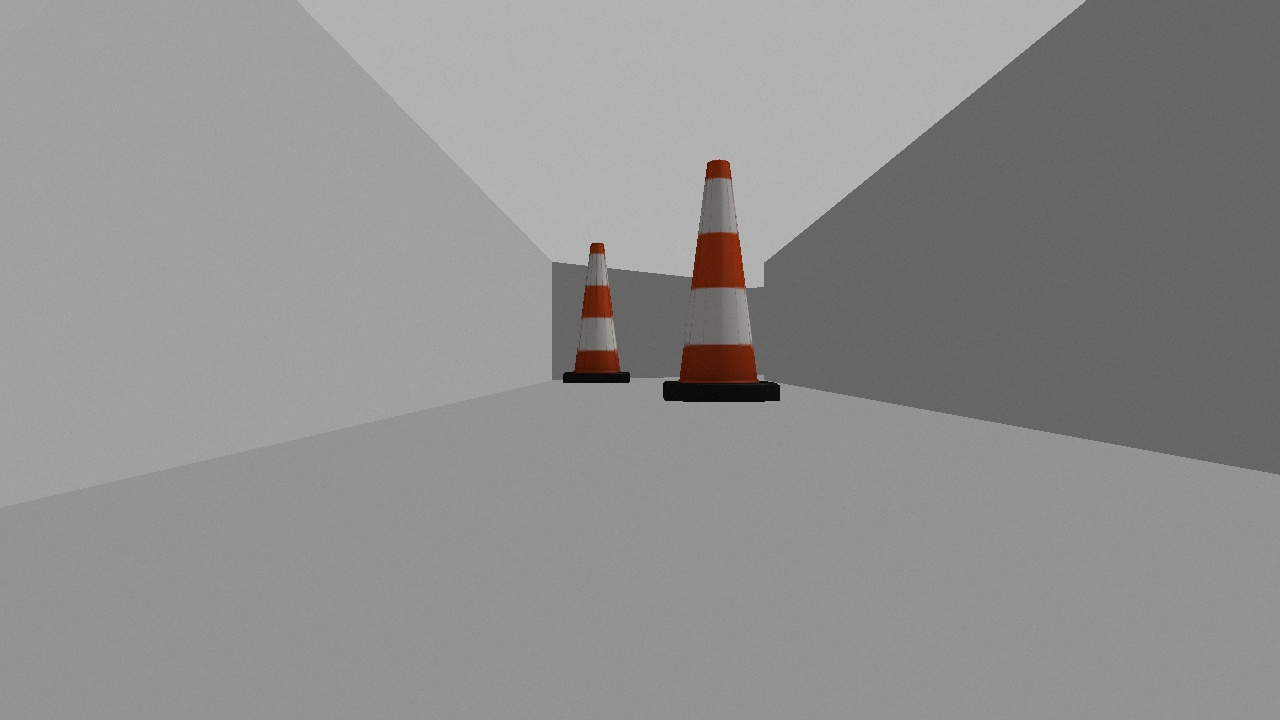barricade: (659, 155, 786, 411), (559, 238, 635, 390)
